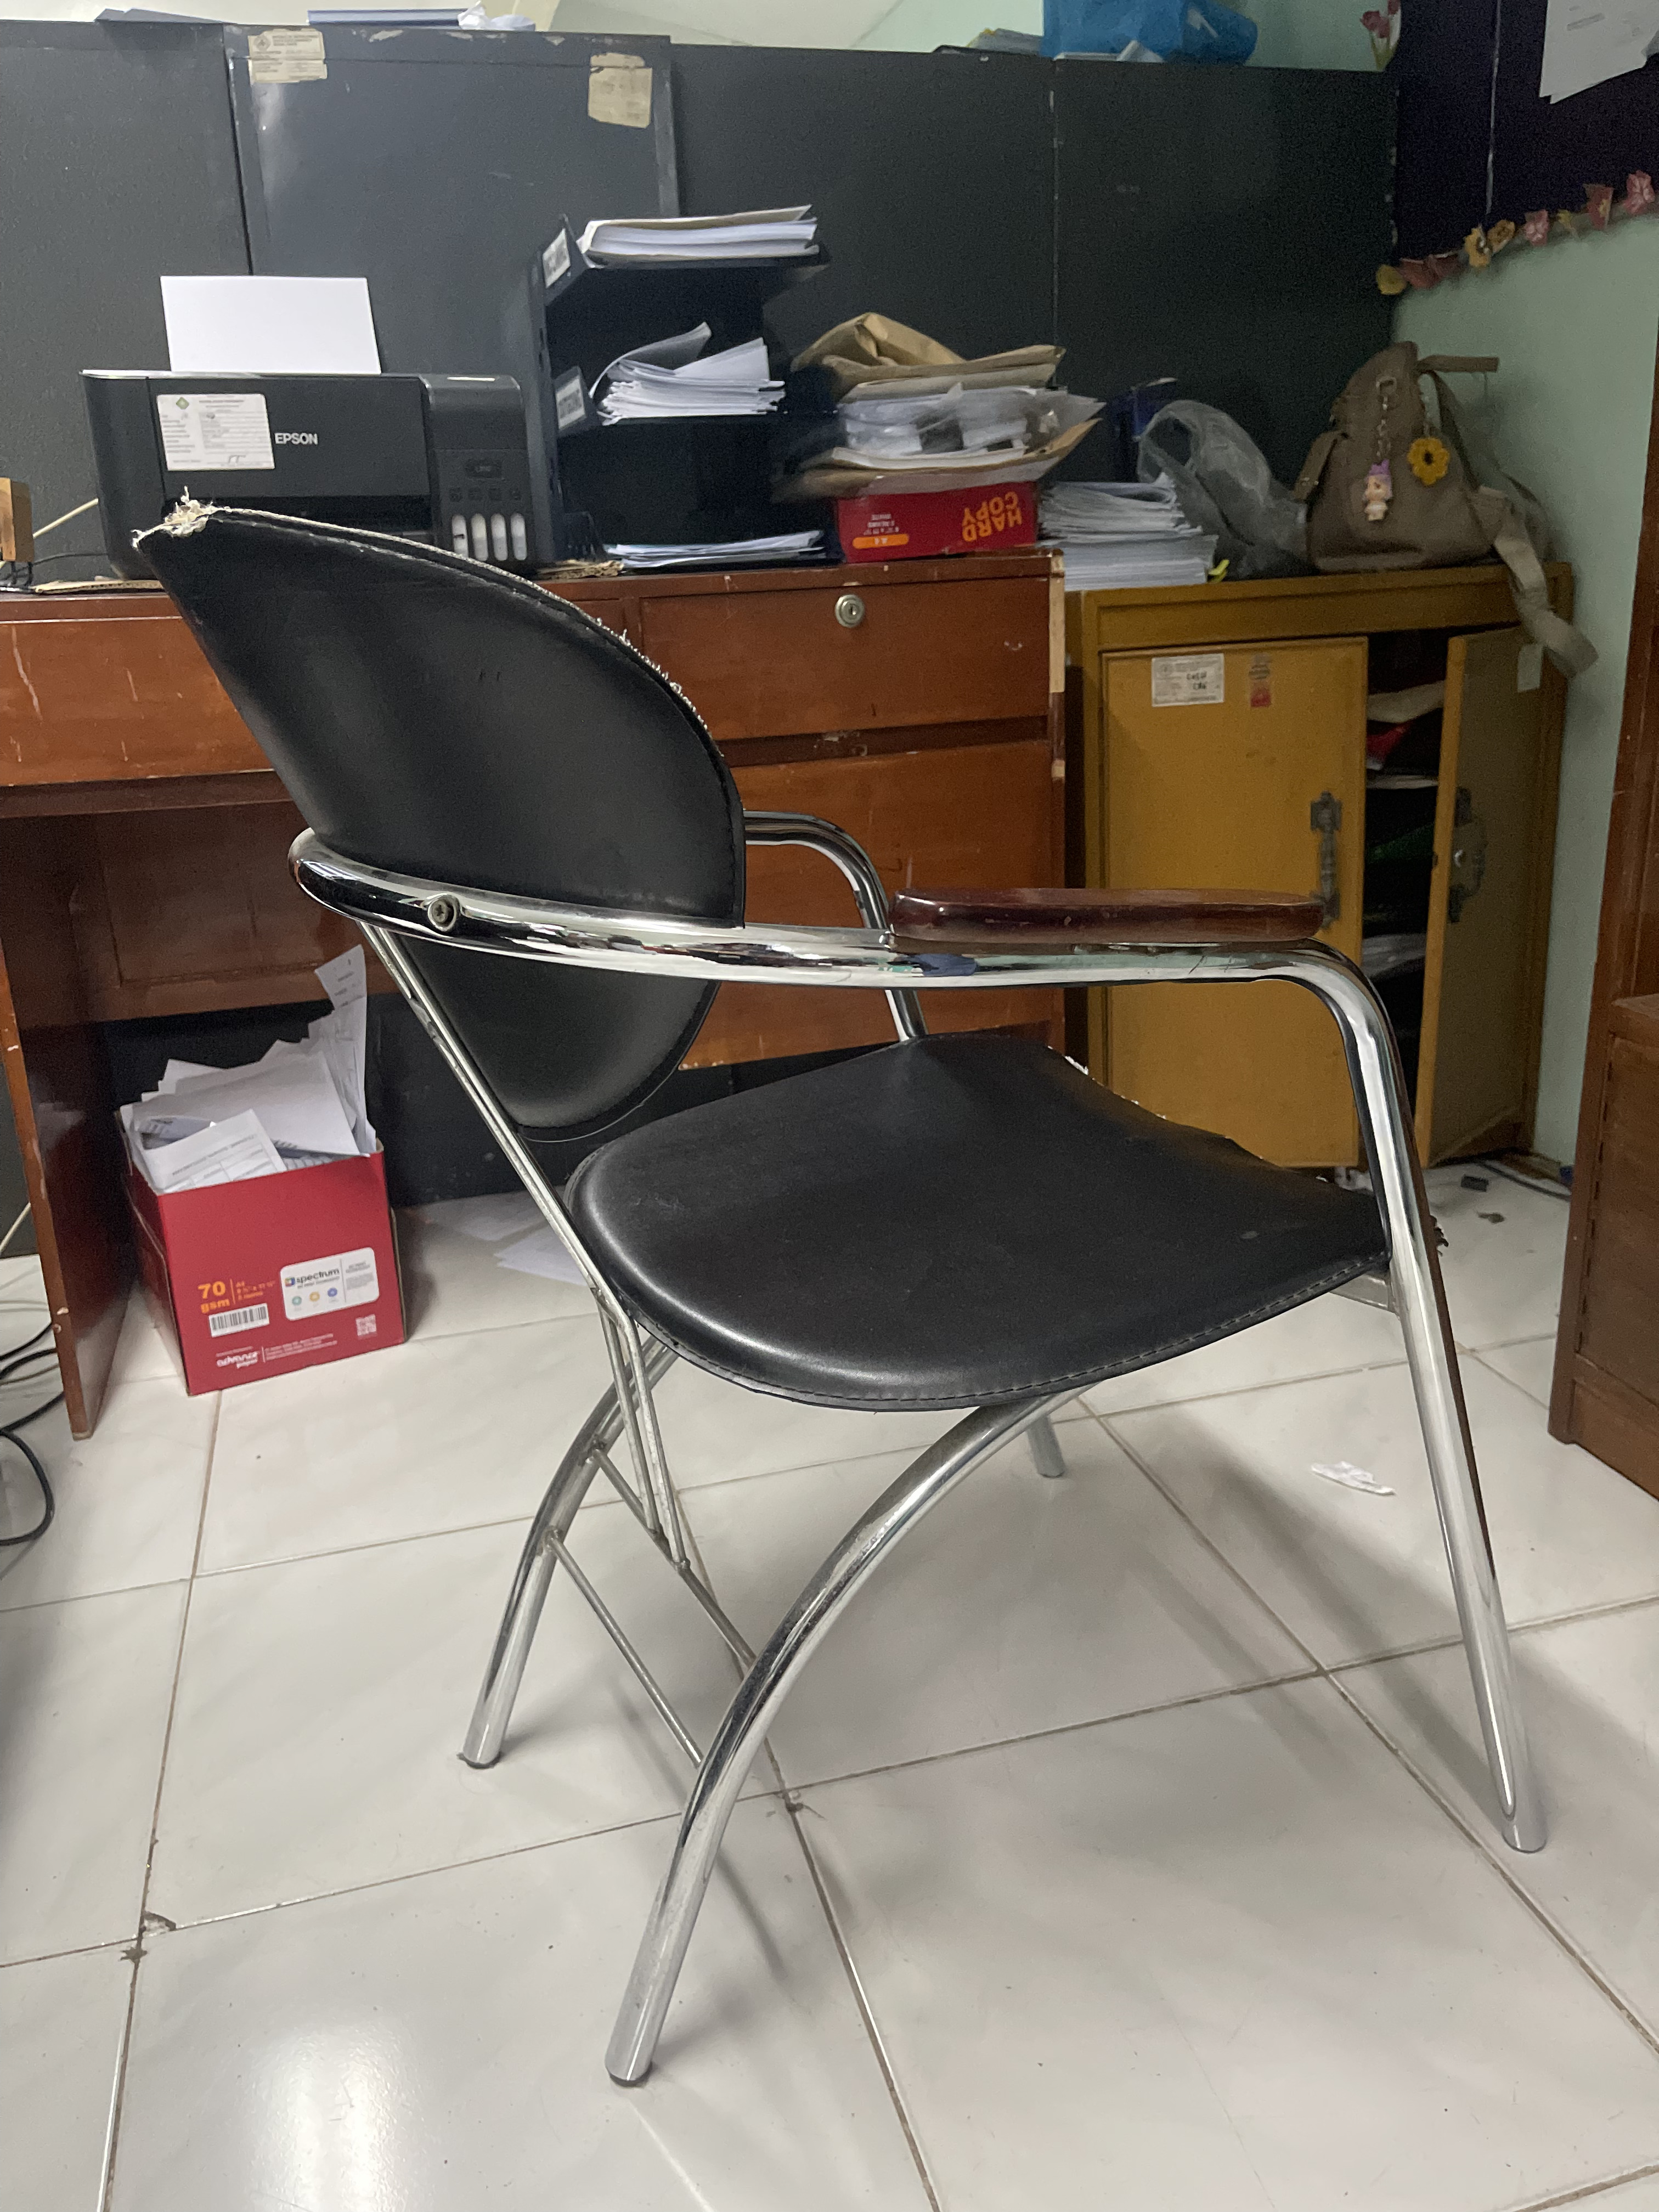chair1: (134, 503, 1547, 2113)
